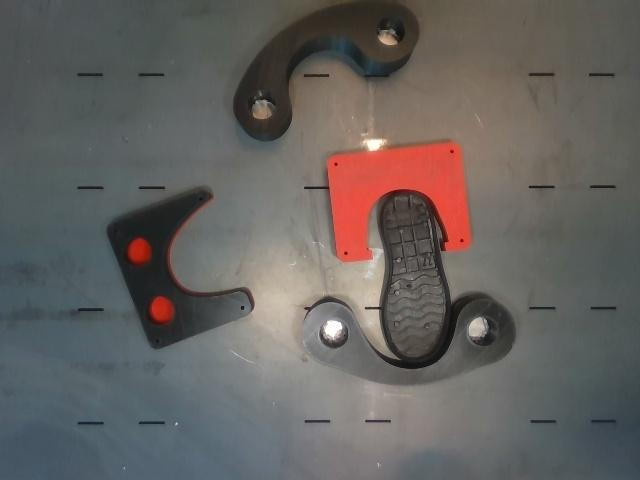shoes: (382, 195, 449, 361)
